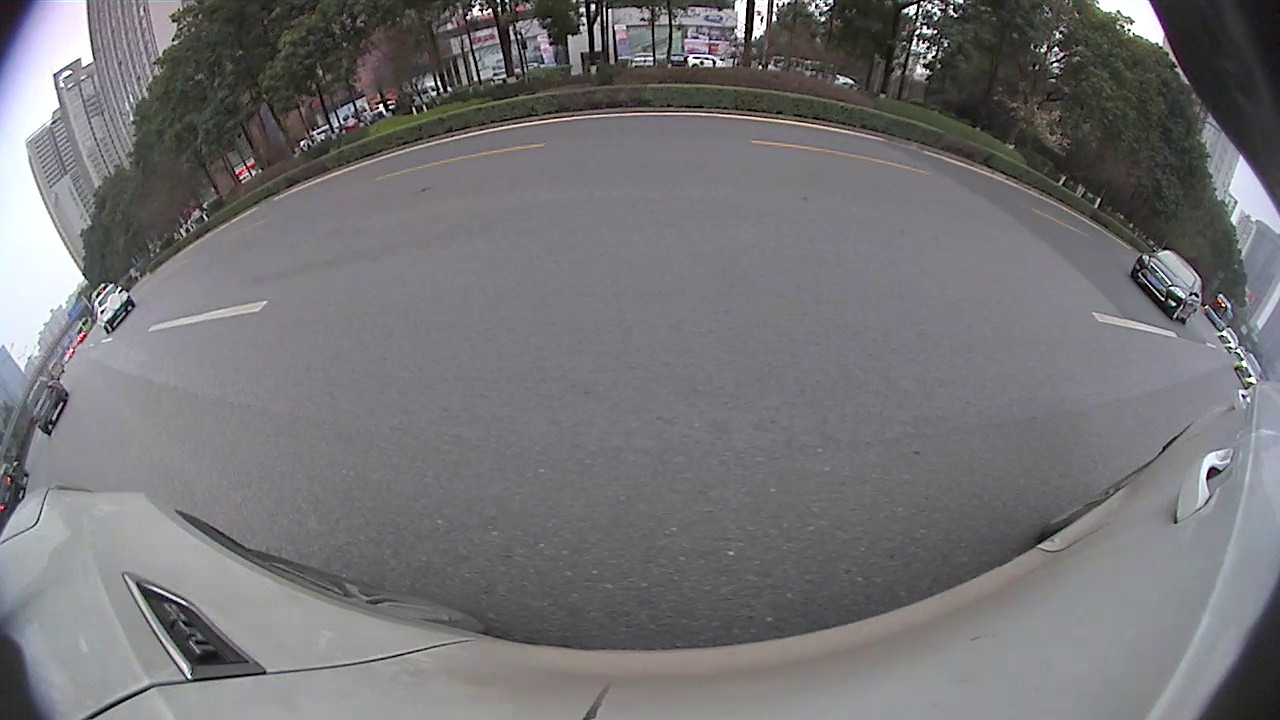bus: (686, 123, 774, 194), (776, 132, 937, 168)
car: (955, 155, 1154, 299), (784, 145, 988, 256), (597, 145, 681, 205), (547, 158, 596, 193), (773, 169, 788, 191)
front: (781, 185, 800, 216)
rear: (852, 199, 883, 246), (1056, 256, 1088, 292)
